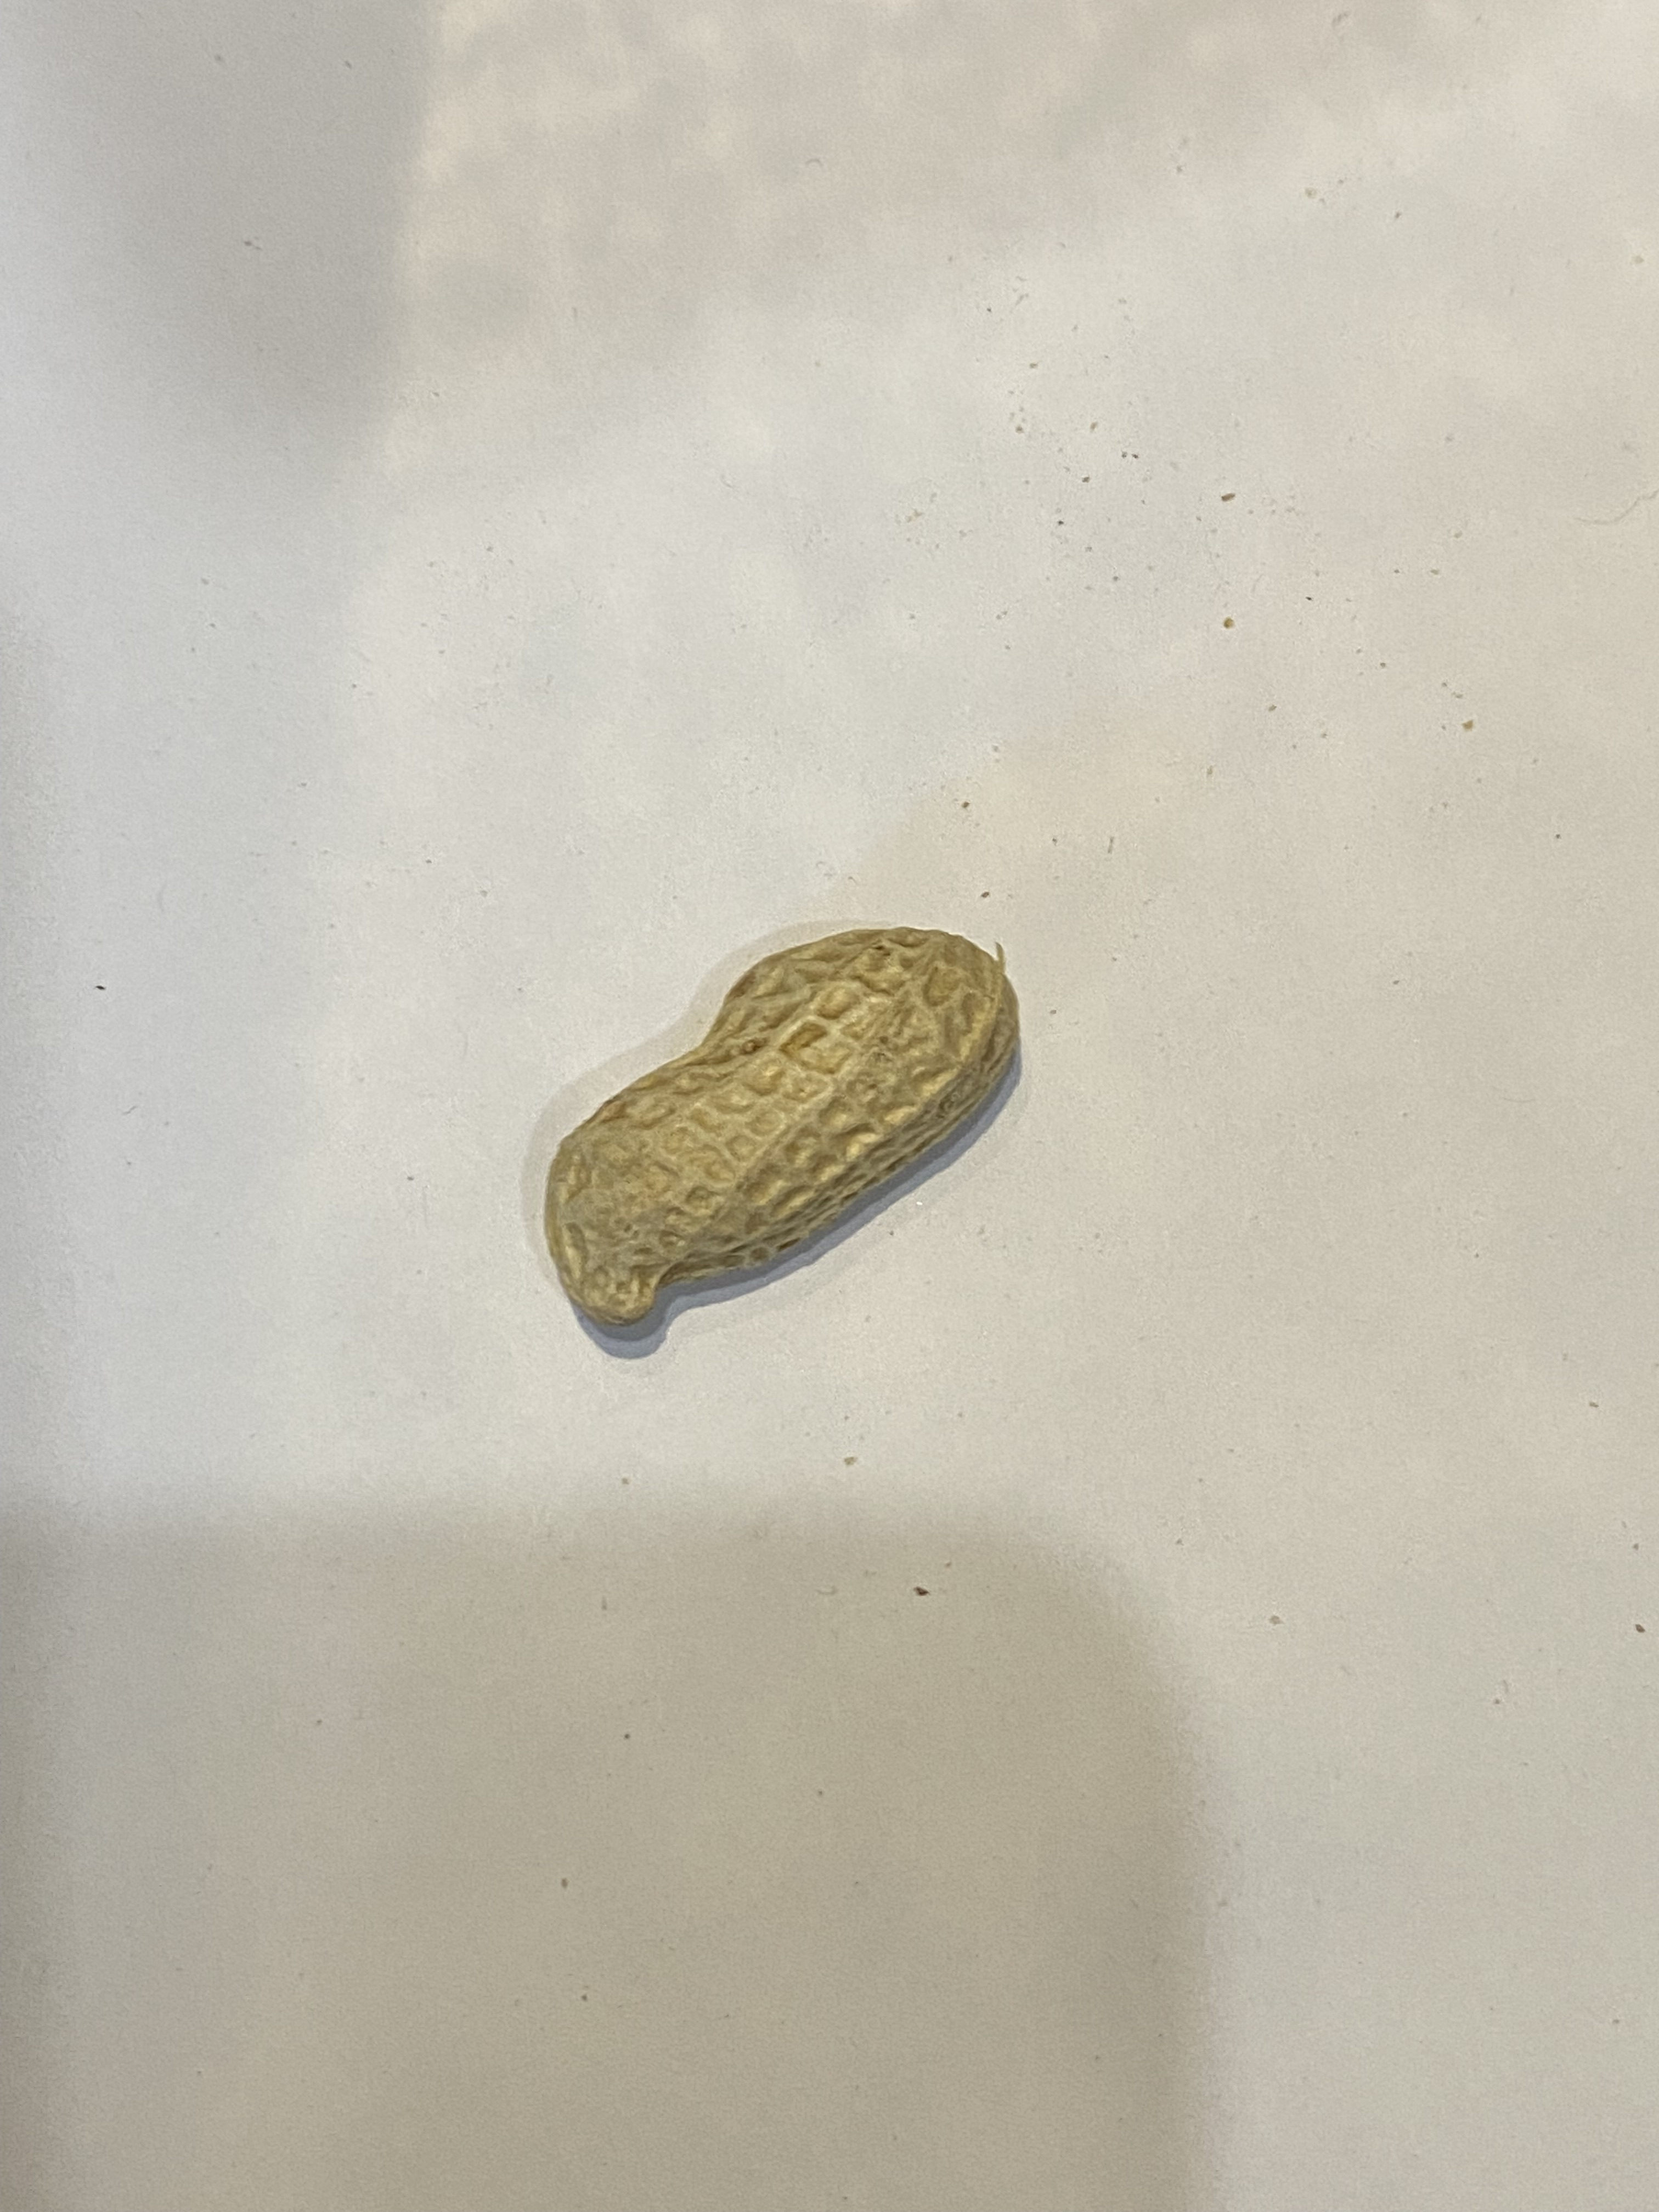kacang2: (533, 900, 1023, 1332)
